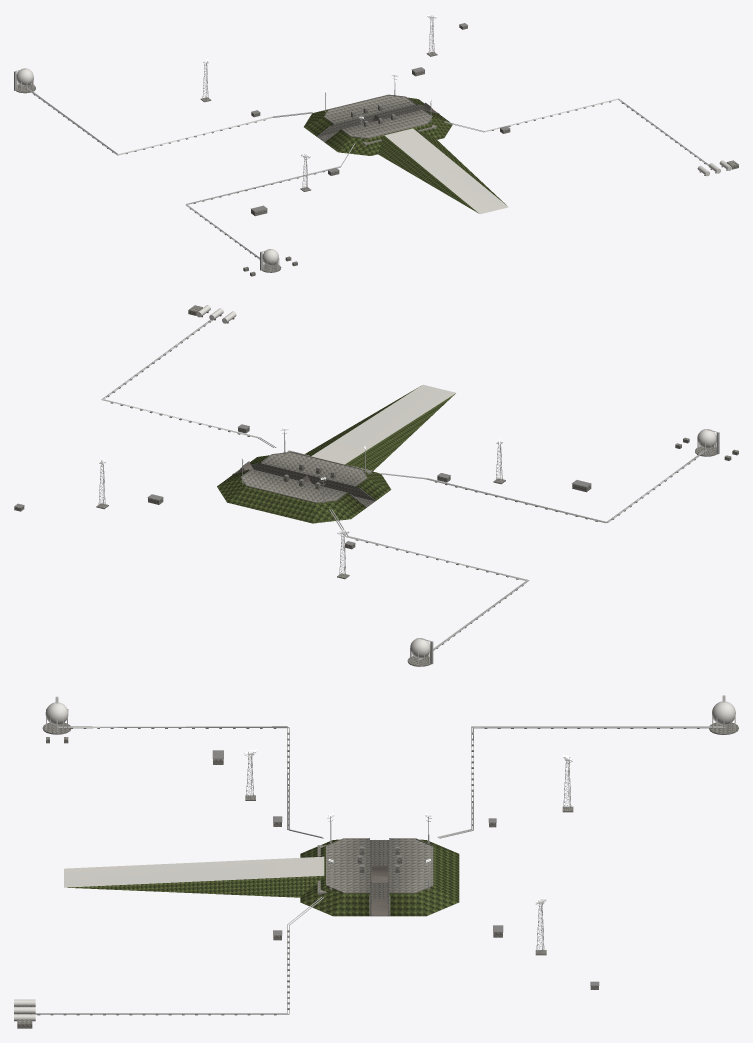
File: lc39a-pad.glb
3 renders of one model, top to bottom at view 1: azimuth 30°, elevation 25°; view 2: azimuth 150°, elevation 25°; view 3: azimuth 270°, elevation 25°, orthographic. The views are drawn at different scales.
Visible parts, largest first — view 1: pad-mound, pad-pipes, pad-tanks, pad-light-masts, pad-sheds; view 2: pad-mound, pad-pipes, pad-tanks, pad-light-masts, pad-sheds; view 3: pad-mound, pad-pipes, pad-tanks, pad-light-masts, pad-sheds, pad-deflectors.
Part boxes in pixels (x1,y1,x2,y2): pad-mound: (304, 94, 508, 214); pad-pipes: (24, 86, 708, 266); pad-tanks: (14, 68, 738, 276); pad-light-masts: (200, 15, 437, 191); pad-sheds: (251, 23, 510, 216); pad-mound: (217, 384, 455, 523); pad-pipes: (101, 319, 707, 659); pad-tanks: (188, 305, 738, 666); pad-light-masts: (96, 428, 505, 579); pad-sheds: (14, 424, 591, 549); pad-mound: (64, 838, 459, 916); pad-pipes: (26, 726, 725, 1015); pad-tanks: (14, 695, 738, 1028); pad-light-masts: (244, 751, 573, 955); pad-sheds: (212, 750, 599, 989); pad-deflectors: (371, 840, 388, 915).
Bounding box in the file's own units: 695 × 56.51 × 674.
Materials: 7 (2 with a texture image).
